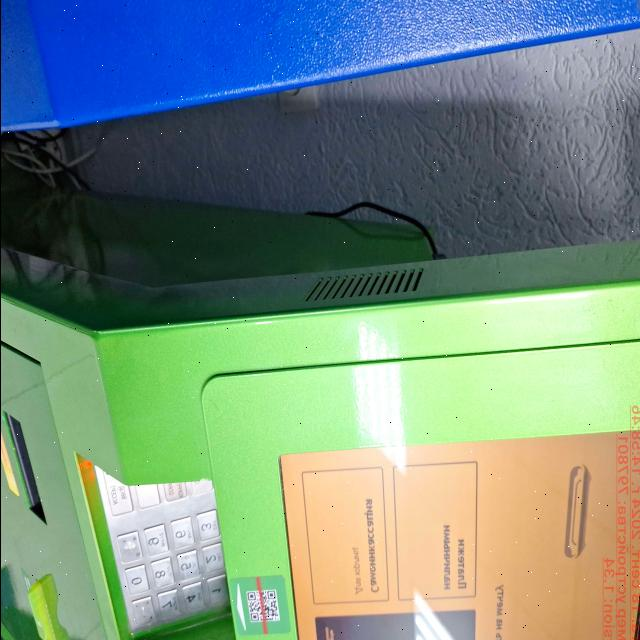bank: (0, 146, 640, 640)
